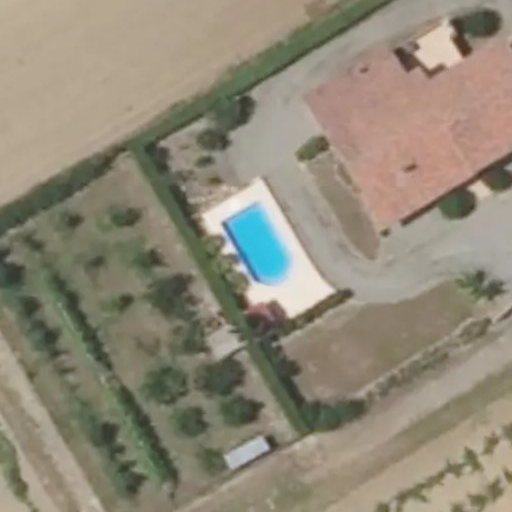pool: (217, 221, 302, 270)
